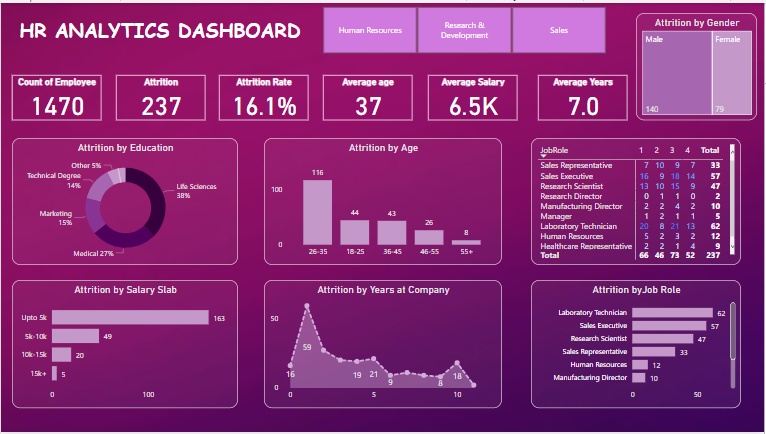

The dashboard page shown, as its layout file describes it:
{"tool":"powerbi","page":{"name":"HR Analytics Dashboard","canvas":[1280,720],"ordinal":0},"visuals":[{"type":"card","title":"Count of Employee","fields":{"Values":["CountNonNull(HR_Analytics.EmpID)"]},"box":[18.5,120.9,149.5,75.6],"z":0},{"type":"card","title":"Attrition","fields":{"Values":["Sum(HR_Analytics.Attrition_Count)"]},"box":[193.2,120.9,149.5,75.6],"z":1000},{"type":"card","title":"Attrition Rate","fields":{"Values":["HR_Analytics.Attrition_Rate"]},"box":[366.2,120.9,149.5,75.6],"z":2000},{"type":"card","title":"Average age","fields":{"Values":["Avg(HR_Analytics.Age)"]},"box":[540.9,120.9,149.5,75.6],"z":3000},{"type":"card","title":"Average Salary","fields":{"Values":["Avg(HR_Analytics.MonthlyIncome)"]},"box":[715.6,120.9,149.5,75.6],"z":4000},{"type":"card","title":"Average Years","fields":{"Values":["Avg(HR_Analytics.YearsAtCompany)"]},"box":[900.4,120.9,149.5,75.6],"z":5000},{"type":"donutChart","title":"Attrition by Education","fields":{"Category":["HR_Analytics.EducationField"],"Y":["Sum(HR_Analytics.Attrition_Count)"]},"box":[18.5,226.5,379.1,213.1],"z":6000},{"type":"columnChart","title":"Attrition by Age","fields":{"Category":["HR_Analytics.AgeGroup"],"Y":["Sum(HR_Analytics.Attrition_Count)"]},"box":[441.2,226.5,399.3,213.1],"z":7000},{"type":"pivotTable","fields":{"Rows":["HR_Analytics.JobRole"],"Columns":["HR_Analytics.JobSatisfaction"],"Values":["Sum(HR_Analytics.Attrition_Count)"]},"box":[889.1,226.5,352.3,213.1],"z":8000},{"type":"clusteredBarChart","title":"Attrition by Salary Slab","fields":{"Category":["HR_Analytics.SalarySlab"],"Y":["Sum(HR_Analytics.Attrition_Count)"]},"box":[18.5,464.7,379.1,214.7],"z":9000},{"type":"clusteredBarChart","title":"Attrition byJob Role","fields":{"Y":["Sum(HR_Analytics.Attrition_Count)"],"Category":["HR_Analytics.JobRole"]},"box":[889.1,464.7,352.3,214.7],"z":10000},{"type":"stackedAreaChart","title":"Attrition by Years at Company","fields":{"Y":["Sum(HR_Analytics.Attrition_Count)"],"Category":["HR_Analytics.YearsAtCompany"]},"box":[441.2,464.7,399.3,214.7],"z":11000},{"type":"treemap","title":"Attrition by Gender","fields":{"Group":["HR_Analytics.Gender"],"Values":["Sum(HR_Analytics.Attrition_Count)"]},"box":[1065.3,16.8,203,179.5],"z":12000},{"type":"slicer","fields":{"Values":["HR_Analytics.Department"]},"box":[515,0,523.4,90.6],"z":13000},{"type":"textbox","box":[18.5,16.8,496.6,73.8],"z":14000}]}

Visuals, with their boxes in screenshot pixels (x1, y1, x2, y2), scaled from the page's 1280x720 canvas onto the 766x434 screenshot:
"Count of Employee" card: crop(11, 73, 101, 118)
"Attrition" card: crop(116, 73, 205, 118)
"Attrition Rate" card: crop(219, 73, 309, 118)
"Average age" card: crop(324, 73, 413, 118)
"Average Salary" card: crop(428, 73, 518, 118)
"Average Years" card: crop(539, 73, 628, 118)
"Attrition by Education" donutChart: crop(11, 137, 238, 265)
"Attrition by Age" columnChart: crop(264, 137, 503, 265)
pivotTable - HR_Analytics.JobRole x HR_Analytics.JobSatisfaction: crop(532, 137, 743, 265)
"Attrition by Salary Slab" clusteredBarChart: crop(11, 280, 238, 410)
"Attrition byJob Role" clusteredBarChart: crop(532, 280, 743, 410)
"Attrition by Years at Company" stackedAreaChart: crop(264, 280, 503, 410)
"Attrition by Gender" treemap: crop(638, 10, 759, 118)
slicer - HR_Analytics.Department: crop(308, 0, 621, 55)
textbox: crop(11, 10, 308, 55)
